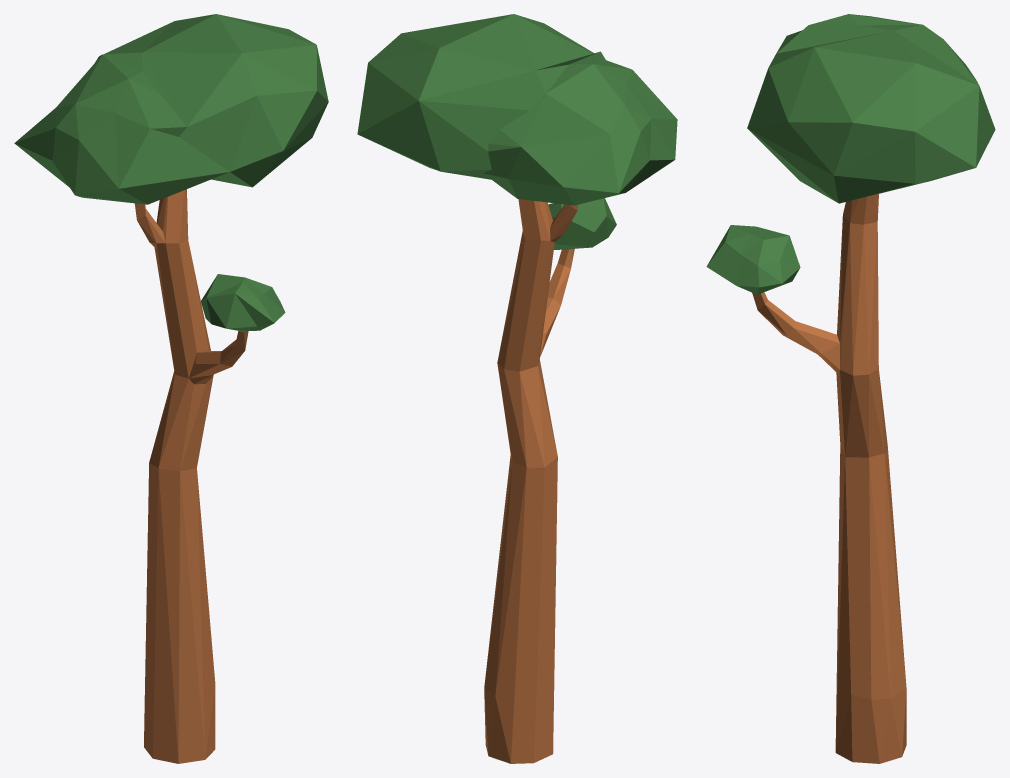
The model's file is tree01.gltf.
The picture shows the model from 3 angles, left to right: view 1: azimuth 30°, elevation 25°; view 2: azimuth 150°, elevation 25°; view 3: azimuth 270°, elevation 25°; orthographic projection.
Visible parts, largest first — view 1: Cylinder; view 2: Cylinder; view 3: Cylinder.
Part boxes in pixels (bbox=[...]): Cylinder: bbox=[14, 14, 328, 763]; Cylinder: bbox=[357, 14, 677, 763]; Cylinder: bbox=[706, 14, 995, 763].
Size of the model in its own units: 1.68 by 4.3 by 1.57.
1 material, 1 textured.
